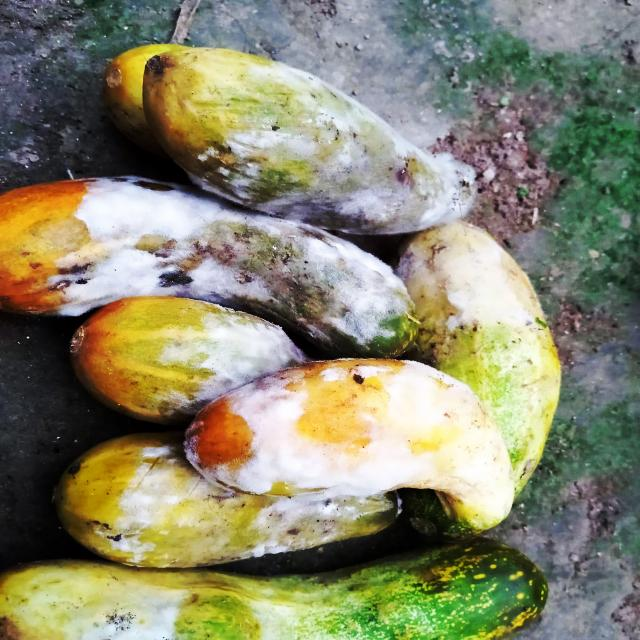Pythium-Fruit-Rot: (58, 161, 402, 350), (204, 54, 476, 235), (187, 358, 472, 501), (112, 443, 344, 563), (400, 220, 530, 334), (180, 301, 304, 412), (80, 575, 182, 640)
